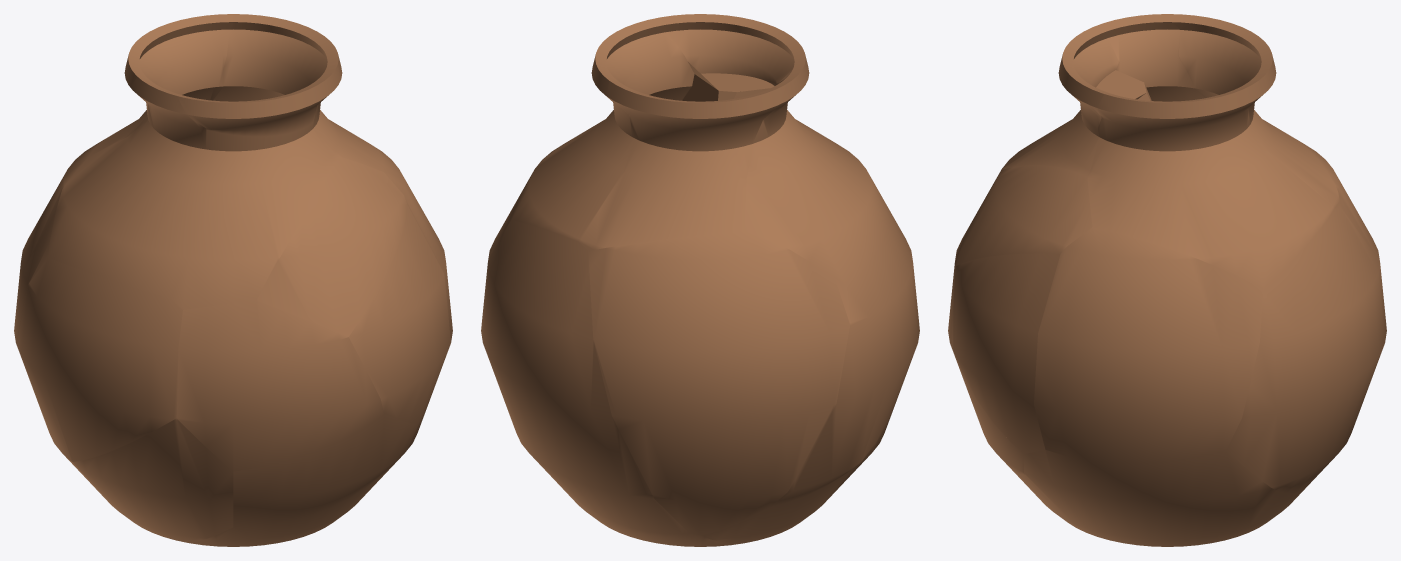
File: clay-jar.glb
3 views of the same model, side by side, from view 1: azimuth 30°, elevation 25°; view 2: azimuth 150°, elevation 25°; view 3: azimuth 270°, elevation 25° (orthographic).
Parts seen in each view (by area): view 1: Shard05, Shard11, Shard13, Shard08, Shard01, Shard07, Shard14, Shard04, Shard15, Shard12, Shard02, Shard00 (+2 smaller); view 2: Shard09, Shard10, Shard12, Shard13, Shard11, Shard15, Shard02, Shard14, Shard08, Shard06; view 3: Shard03, Shard15, Shard10, Shard06, Shard07, Shard01, Shard12, Shard13, Shard02, Shard08, Shard04, Shard09.
Boxes of the visible parts, x1,y1,x2,y2 form: Shard05: (176, 300, 383, 471); Shard11: (16, 257, 182, 461); Shard13: (48, 77, 206, 298); Shard08: (170, 122, 340, 309); Shard01: (256, 157, 407, 336); Shard07: (348, 205, 450, 423); Shard14: (68, 418, 233, 541); Shard04: (233, 414, 417, 527); Shard15: (211, 14, 383, 171); Shard12: (89, 14, 232, 156); Shard02: (177, 64, 340, 136); Shard00: (184, 459, 398, 546); Shard09: (588, 231, 849, 535); Shard10: (481, 220, 689, 533); Shard12: (580, 81, 785, 250); Shard13: (744, 60, 889, 286); Shard11: (771, 208, 919, 506); Shard15: (511, 17, 694, 242); Shard02: (659, 14, 808, 91); Shard14: (703, 400, 896, 544); Shard08: (682, 73, 888, 208); Shard06: (557, 482, 704, 546); Shard03: (1034, 227, 1263, 464); Shard15: (1087, 80, 1334, 288); Shard10: (1226, 207, 1386, 494); Shard06: (1023, 449, 1301, 546); Shard07: (953, 253, 1060, 453); Shard01: (956, 165, 1092, 265); Shard12: (1172, 14, 1339, 207); Shard13: (1116, 14, 1206, 101); Shard02: (1058, 19, 1146, 129); Shard08: (1001, 72, 1151, 176); Shard04: (961, 372, 1025, 475); Shard09: (1288, 134, 1379, 261).
Bounding box in the file's own units: 0.6758 × 0.7487 × 0.6758.
